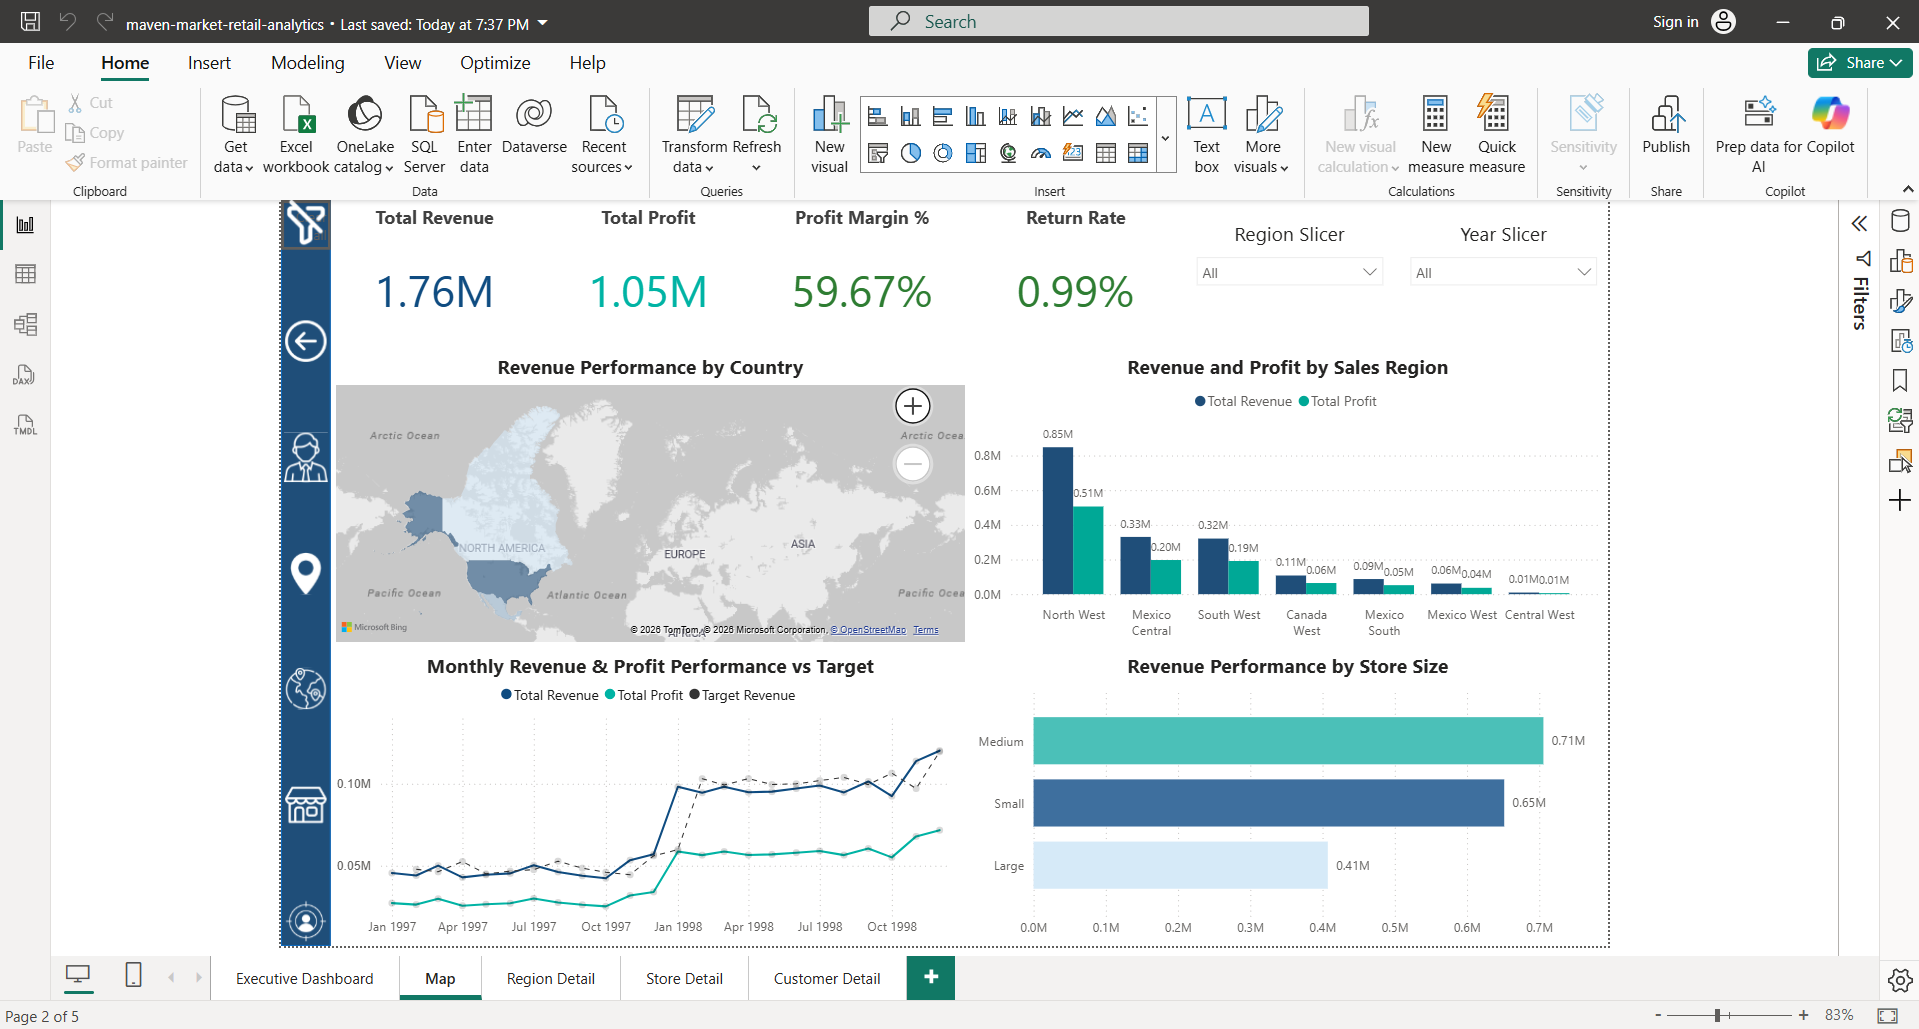

The page's visual inventory and layout, read from the dashboard file:
{"tool":"powerbi","page":{"name":"Map","canvas":[1280,720],"ordinal":1},"visuals":[{"type":"actionButton","box":[0,671.7,48.3,48.3],"z":1000,"group":"g1"},{"type":"actionButton","box":[0,224.2,48,48],"z":2000,"group":"g1"},{"type":"card","title":"Total Revenue","fields":{"Values":["Measure Table.Base | Total Revenue"]},"box":[48,0,200,144],"z":3000},{"type":"actionButton","box":[0,336.2,48,48],"z":3000,"group":"g1"},{"type":"card","title":"Total Profit","fields":{"Values":["Measure Table.Base | Total Profit"]},"box":[254.3,0,200,144],"z":4000},{"type":"actionButton","box":[0,448.1,48,48],"z":4000,"group":"g1"},{"type":"filledMap","title":"Revenue Performance by Country","fields":{"Category":["Stores.store_country"]},"box":[48,144,616.6,288],"z":5000},{"type":"actionButton","box":[0,560.1,48,48],"z":5000,"group":"g1"},{"type":"card","title":"Return Rate","fields":{"Values":["Measure Table.KPI | Return Rate"]},"box":[666.8,0,200,144],"z":6000},{"type":"actionButton","box":[0,112.3,48,48],"z":6000,"group":"g1"},{"type":"actionButton","box":[0,0,48.3,48.3],"z":7000,"group":"g1"},{"type":"card","title":"Profit Margin %","fields":{"Values":["Measure Table.KPI | Profit Margin %"]},"box":[460.6,0,200,144],"z":7000},{"type":"clusteredColumnChart","title":"Revenue and Profit by Sales Region","fields":{"Category":["Regions.sales_region"],"Y":["Measure Table.Base | Total Revenue","Measure Table.Base | Total Profit"]},"box":[663.4,144,616.6,288],"z":8000},{"type":"lineChart","title":"Monthly Revenue & Profit Performance vs Target","fields":{"Category":["Calendar.Start of Month"],"Y":["Measure Table.Base | Total Revenue","Measure Table.Base | Total Profit","Measure Table.Target | Revenue"]},"box":[48,432,616.6,288],"z":9000},{"type":"clusteredBarChart","title":"Revenue Performance by Store Size","fields":{"Category":["Stores.Store Size Category"],"Y":["Measure Table.Base | Total Revenue"]},"box":[663.4,432,616.6,288],"z":10000},{"type":"slicer","title":"Region Slicer","fields":{"Values":["Regions.sales_region"]},"box":[873.1,0,200,144],"z":11000},{"type":"slicer","title":"Year Slicer","fields":{"Values":["Calendar.Year"]},"box":[1079.4,0,200.6,144],"z":12000},{"type":"shape","box":[0,0,48,720],"z":13000},{"type":"group","id":"g1","title":"Group 1","box":[0,0,48.6,720],"z":14000}]}

Visuals, with their boxes on the page's 1280x720 design canvas (x1, y1, x2, y2). These are canvas units, not pixel positions in the 1919x1029 screenshot, which may show the page scaled, cropped or inside an application window:
actionButton: (0, 672, 48, 720)
actionButton: (0, 224, 48, 272)
"Total Revenue" card: (48, 0, 248, 144)
actionButton: (0, 336, 48, 384)
"Total Profit" card: (254, 0, 454, 144)
actionButton: (0, 448, 48, 496)
"Revenue Performance by Country" filledMap: (48, 144, 665, 432)
actionButton: (0, 560, 48, 608)
"Return Rate" card: (667, 0, 867, 144)
actionButton: (0, 112, 48, 160)
actionButton: (0, 0, 48, 48)
"Profit Margin %" card: (461, 0, 661, 144)
"Revenue and Profit by Sales Region" clusteredColumnChart: (663, 144, 1280, 432)
"Monthly Revenue & Profit Performance vs Target" lineChart: (48, 432, 665, 720)
"Revenue Performance by Store Size" clusteredBarChart: (663, 432, 1280, 720)
"Region Slicer" slicer: (873, 0, 1073, 144)
"Year Slicer" slicer: (1079, 0, 1280, 144)
shape: (0, 0, 48, 720)
"Group 1" group: (0, 0, 49, 720)
